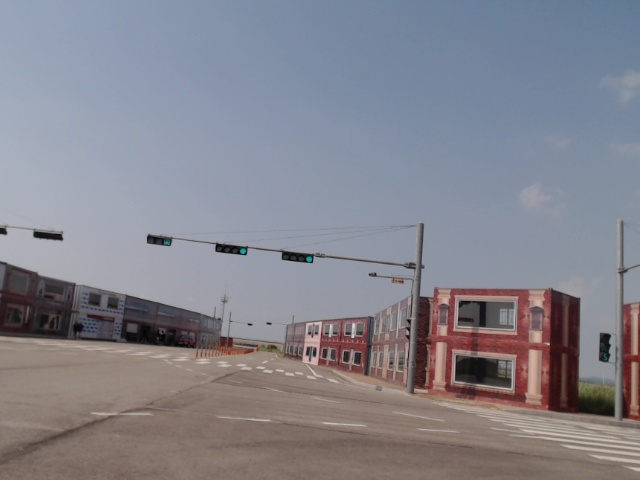straight_green_4: (216, 243, 248, 255), (283, 252, 315, 263)
